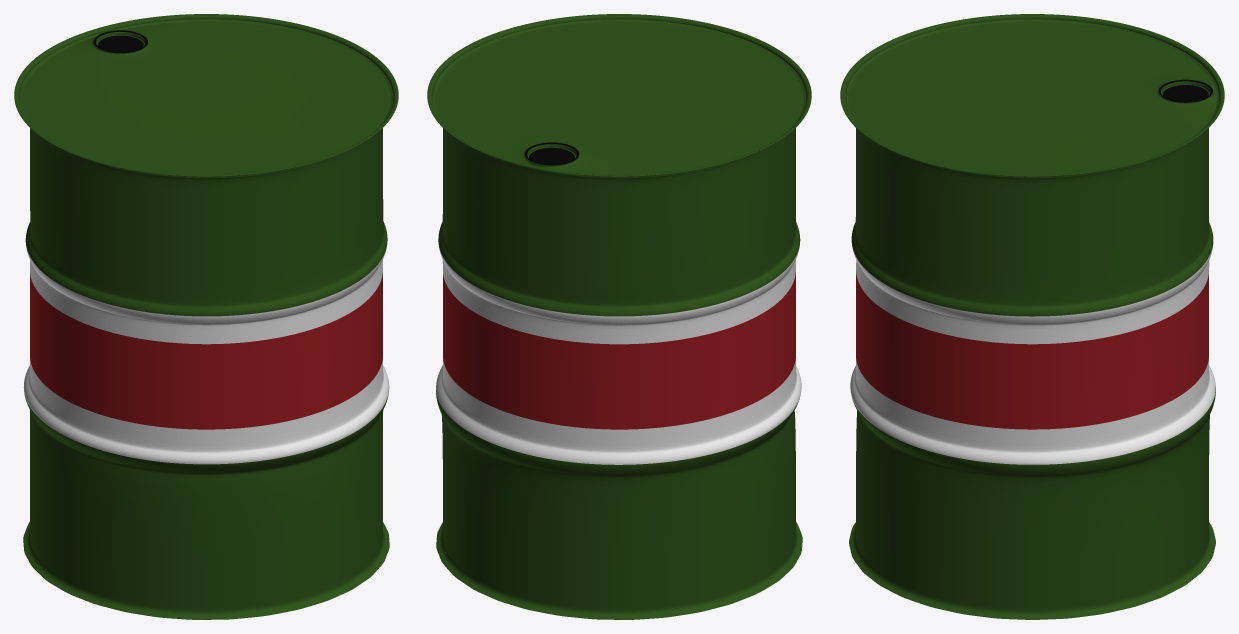
3 renders of one model, left to right at view 1: azimuth 30°, elevation 25°; view 2: azimuth 150°, elevation 25°; view 3: azimuth 270°, elevation 25°, orthographic.
Parts seen in each view (by area): view 1: DrumFinal; view 2: DrumFinal; view 3: DrumFinal.
Part boxes in pixels (x1,y1,x2,y2): DrumFinal: [14, 14, 398, 619]; DrumFinal: [427, 14, 811, 619]; DrumFinal: [840, 14, 1224, 619].
Size of the model in its own units: 216 by 279 by 216.
